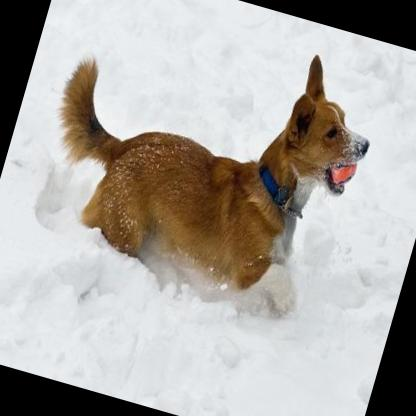Cardigan: (21, 0, 391, 330)
